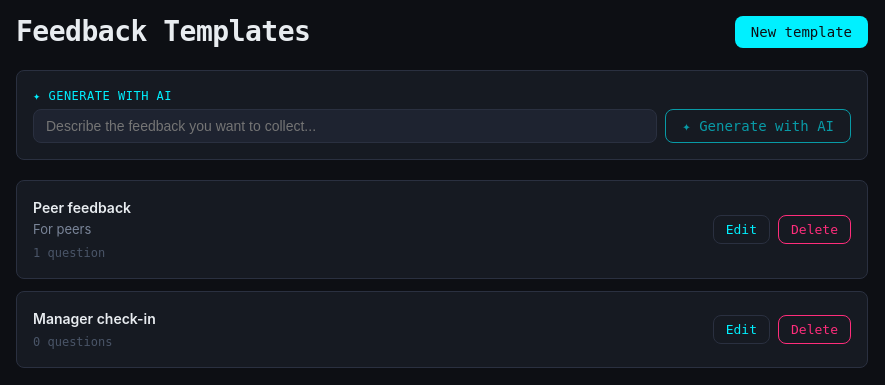
Test: FeedbackTemplatesPage › deletes a template via the api
The image size is (885, 385).
Click the button with test id "feedback-template-delete-t1". click: (814, 230)
box: left=778, top=215, right=851, bottom=244
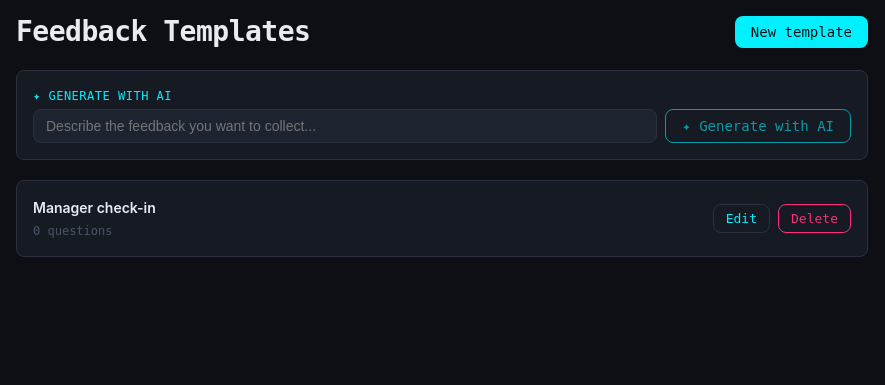
expect the element with test id "feedback-template-row-t1" is gone: met
